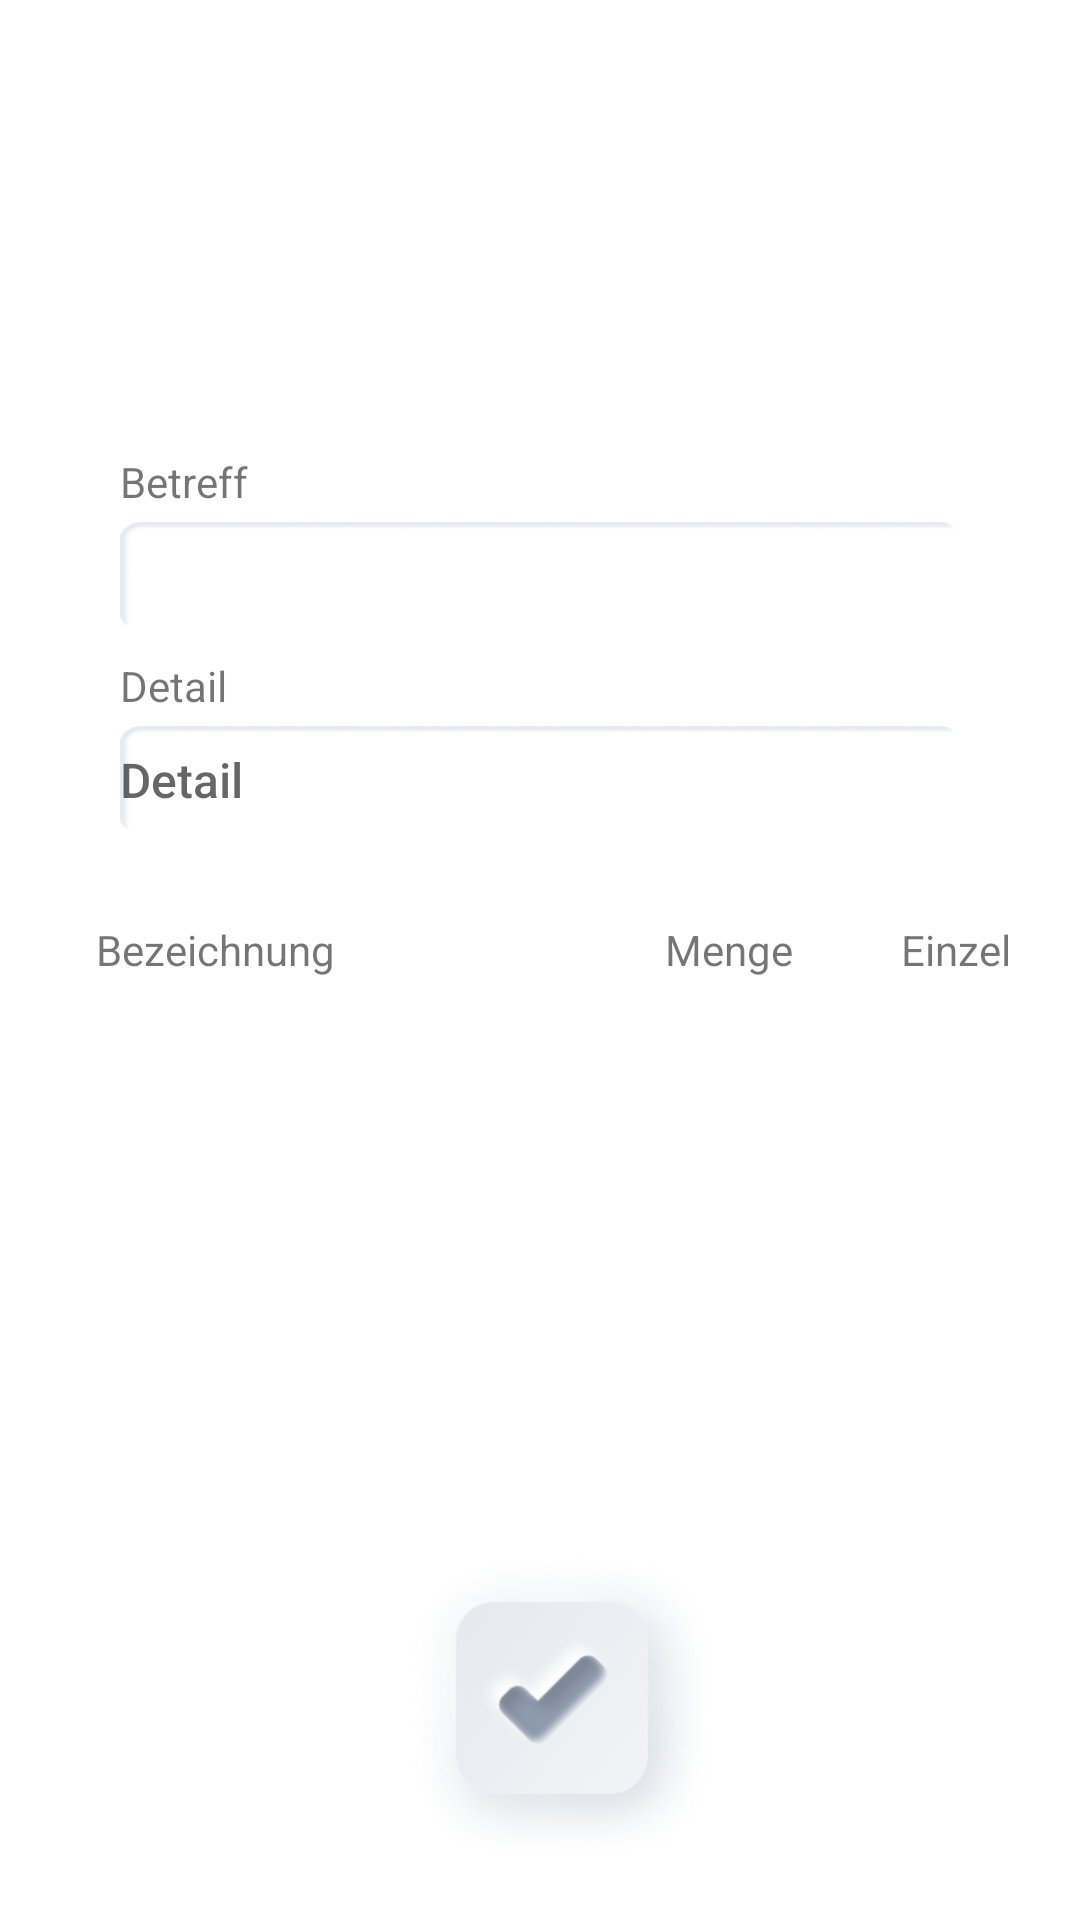

Locate icon controls on the screen. Image size 1080×1920, boxes as (x1, y1, x2, y2).
ok standart: (442, 1589, 687, 1834)
